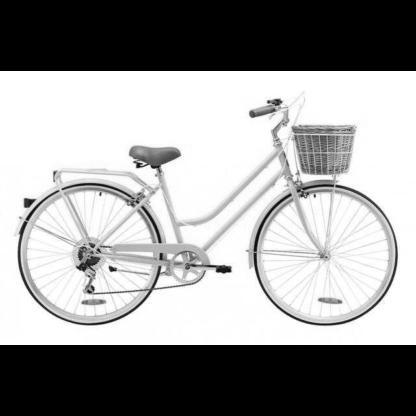Bicycle: (11, 84, 409, 338)
